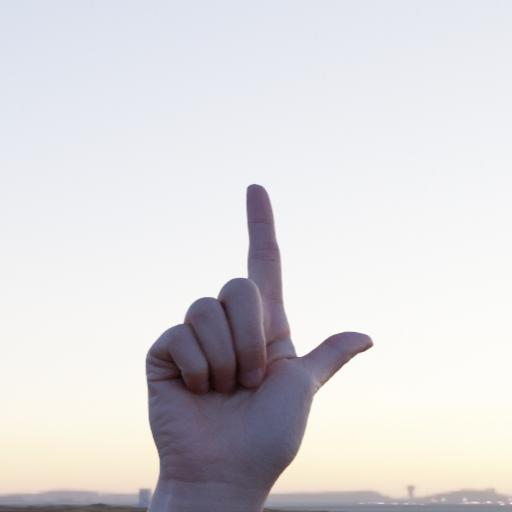L: (131, 174, 385, 500)
